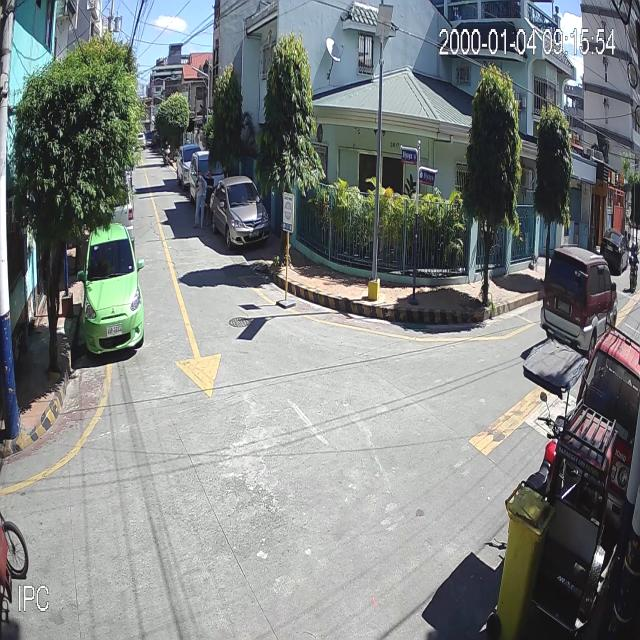standing: (194, 170, 204, 231), (205, 169, 215, 228)
